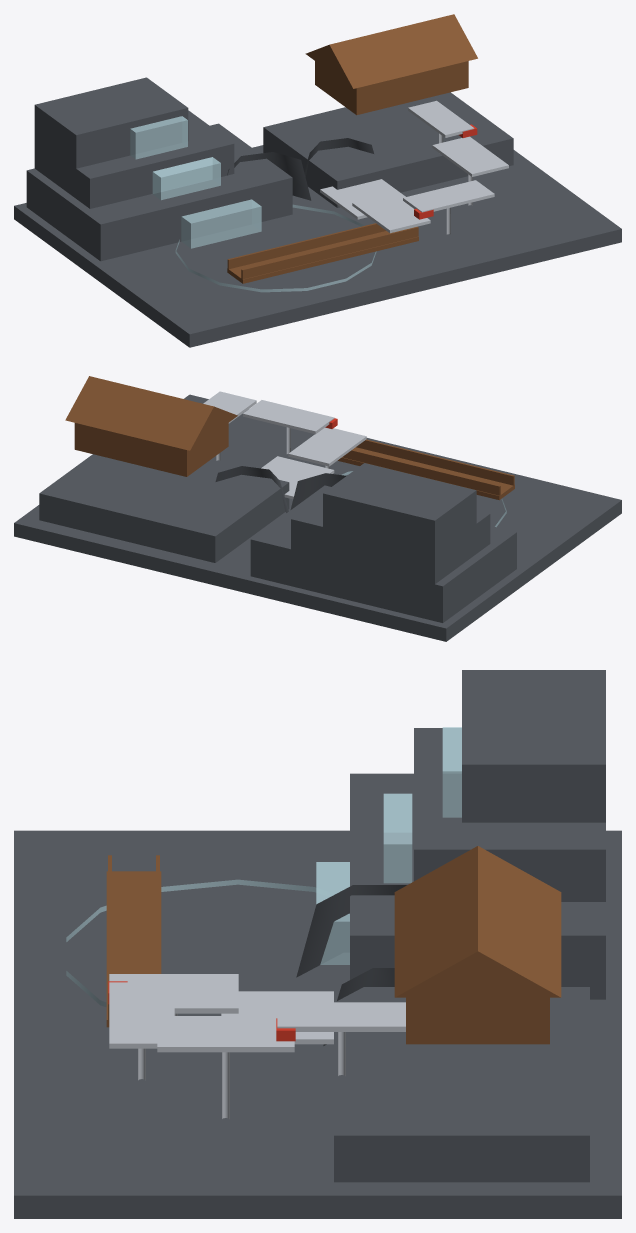
File: lm_18_thac_datanla_waterfall_coaster.glb
3 views of the same model, one above another, from view 1: azimuth 30°, elevation 25°; view 2: azimuth 150°, elevation 25°; view 3: azimuth 270°, elevation 25° (orthographic). The views are drawn at different scales.
Parts seen in each view (by area): view 1: Basalt_Canyon_Terraces, Timber_Bridge_And_Coaster_Station, Alpine_Coaster_Steel_Track, Datanla_Cascade_And_Pool; view 2: Basalt_Canyon_Terraces, Timber_Bridge_And_Coaster_Station, Alpine_Coaster_Steel_Track; view 3: Basalt_Canyon_Terraces, Timber_Bridge_And_Coaster_Station, Alpine_Coaster_Steel_Track, Datanla_Cascade_And_Pool.
Part boxes in pixels (x1,y1,x2,y2): Basalt_Canyon_Terraces: [14, 77, 621, 347]; Timber_Bridge_And_Coaster_Station: [227, 14, 477, 283]; Alpine_Coaster_Steel_Track: [320, 100, 508, 234]; Datanla_Cascade_And_Pool: [130, 116, 376, 292]; Basalt_Canyon_Terraces: [14, 394, 621, 641]; Timber_Bridge_And_Coaster_Station: [65, 376, 514, 500]; Alpine_Coaster_Steel_Track: [203, 391, 366, 499]; Basalt_Canyon_Terraces: [14, 670, 621, 1218]; Timber_Bridge_And_Coaster_Station: [106, 846, 561, 1044]; Alpine_Coaster_Steel_Track: [109, 974, 405, 1118]; Datanla_Cascade_And_Pool: [66, 727, 461, 1007].
Bounding box in the file's own units: 54 × 16.5 × 38.
